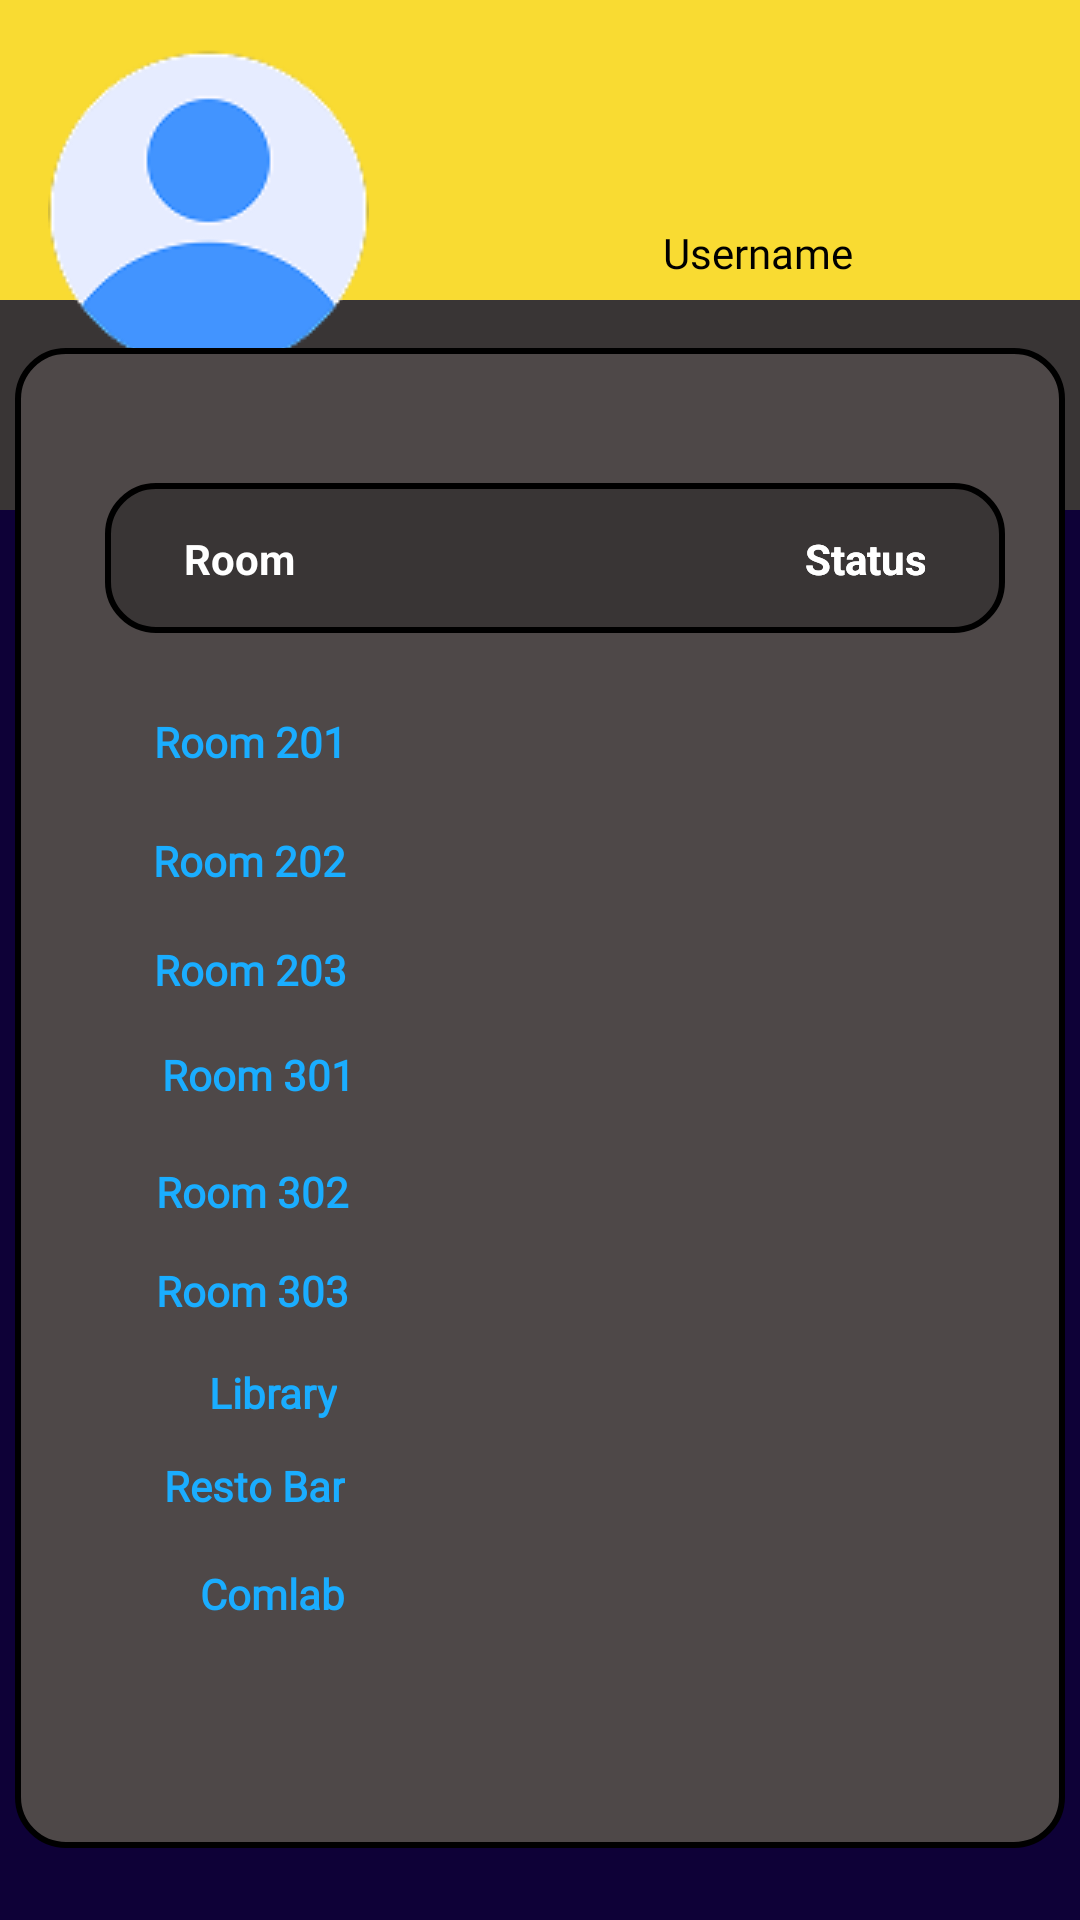

Named icons in this screenshot (1080w x 1920h) and their centers, (x=x, y=y):
profile pic: (x=208, y=213)
